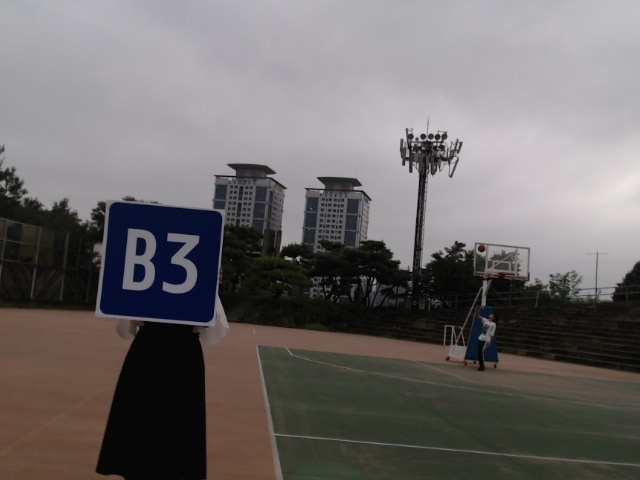delivery_b3: (98, 201, 224, 322)
